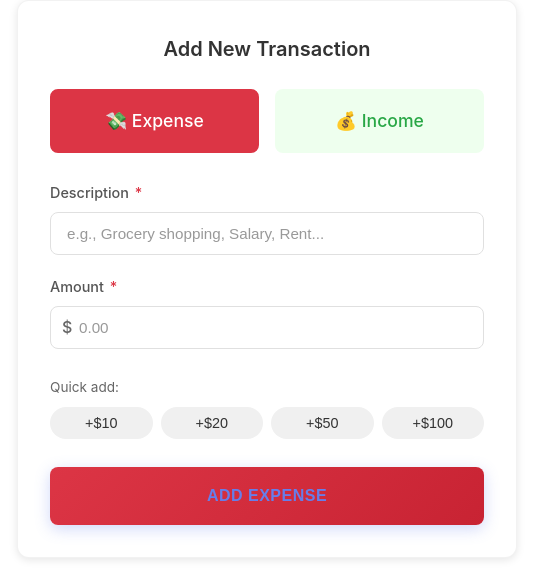
Test: AddTransaction Component › toggles between expense and income
expect the radio button labelled "💸 Expense" is checked: met, box x1=50 y1=89 x2=259 y2=153
What coordinates should you click on to do the following:
click the radio button labelled "💰 Income"
I would click on:
 (380, 121)
Its box is x1=275 y1=89 x2=484 y2=153.
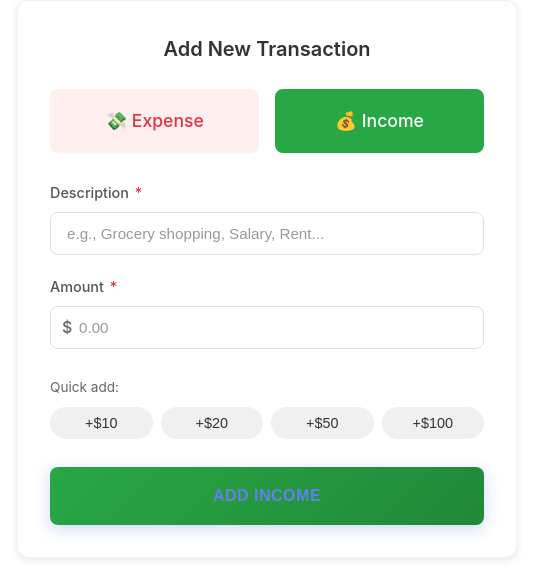
expect the radio button labelled "💰 Income" is checked: met, box x1=275 y1=89 x2=484 y2=153
expect the radio button labelled "💸 Expense" is not checked: met, box x1=50 y1=89 x2=259 y2=153
